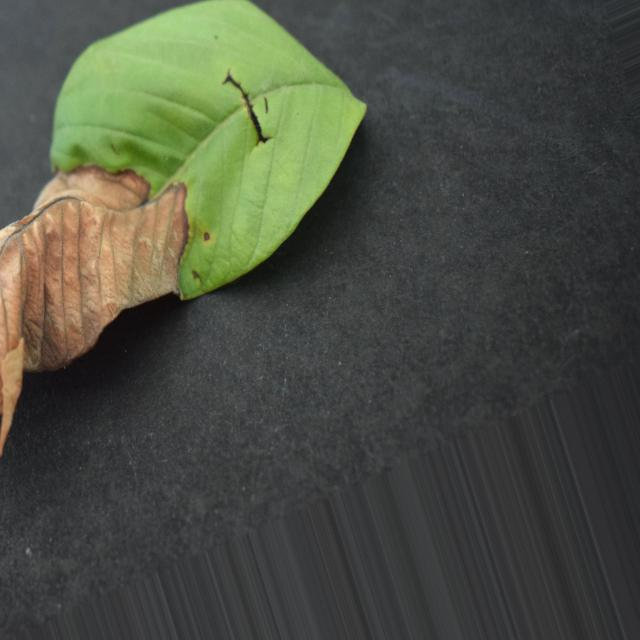Mummification: (0, 2, 366, 454)
